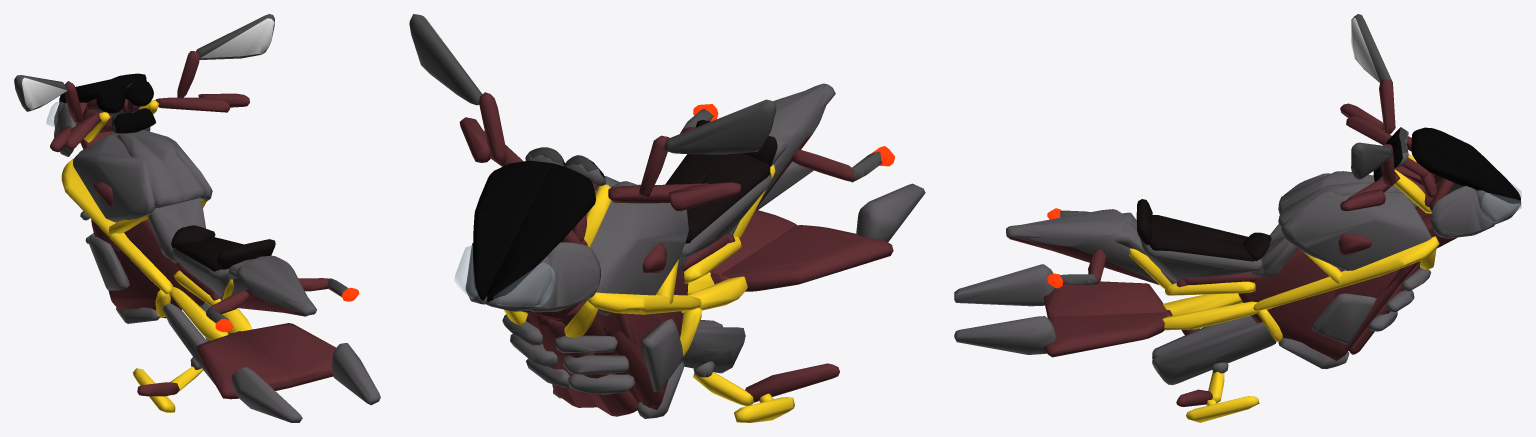
3 renders of one model, left to right at view 1: azimuth 30°, elevation 25°; view 2: azimuth 150°, elevation 25°; view 3: azimuth 270°, elevation 25°, orthographic. The views are drawn at different scales.
Visible parts, largest first — view 1: brush_ShinyHull_g0_b0_2, brush_ShinyHull_g0_b0.003_5, brush_ShinyHull_g0_b0.002_4, brush_ShinyHull_g0_b0.004_6, brush_ShinyHull_g0_b0.001_3, brush_ShinyHull_g0_b0.006_8; view 2: brush_ShinyHull_g0_b0_2, brush_ShinyHull_g0_b0.003_5, brush_ShinyHull_g0_b0.006_8, brush_ShinyHull_g0_b0.002_4, brush_ShinyHull_g0_b0.004_6, brush_ShinyHull_g0_b0.005_7, brush_ShinyHull_g0_b0.001_3; view 3: brush_ShinyHull_g0_b0_2, brush_ShinyHull_g0_b0.003_5, brush_ShinyHull_g0_b0.002_4, brush_ShinyHull_g0_b0.004_6, brush_ShinyHull_g0_b0.006_8, brush_ShinyHull_g0_b0.005_7, brush_ShinyHull_g0_b0.001_3.
Part boxes in pixels (x1,y1,x2,y2): brush_ShinyHull_g0_b0_2: [14, 14, 380, 422]; brush_ShinyHull_g0_b0.003_5: [54, 101, 212, 222]; brush_ShinyHull_g0_b0.002_4: [61, 100, 252, 412]; brush_ShinyHull_g0_b0.004_6: [171, 225, 275, 271]; brush_ShinyHull_g0_b0.001_3: [96, 79, 155, 134]; brush_ShinyHull_g0_b0.006_8: [59, 73, 146, 103]; brush_ShinyHull_g0_b0_2: [409, 14, 925, 418]; brush_ShinyHull_g0_b0.003_5: [465, 176, 688, 315]; brush_ShinyHull_g0_b0.006_8: [473, 160, 595, 304]; brush_ShinyHull_g0_b0.002_4: [503, 164, 794, 422]; brush_ShinyHull_g0_b0.004_6: [665, 119, 777, 243]; brush_ShinyHull_g0_b0.005_7: [454, 245, 555, 306]; brush_ShinyHull_g0_b0.001_3: [525, 147, 605, 194]; brush_ShinyHull_g0_b0_2: [954, 14, 1457, 406]; brush_ShinyHull_g0_b0.003_5: [1278, 171, 1520, 270]; brush_ShinyHull_g0_b0.002_4: [1129, 154, 1439, 422]; brush_ShinyHull_g0_b0.004_6: [1136, 199, 1271, 261]; brush_ShinyHull_g0_b0.006_8: [1411, 127, 1520, 203]; brush_ShinyHull_g0_b0.005_7: [1481, 182, 1521, 222]; brush_ShinyHull_g0_b0.001_3: [1373, 127, 1408, 181].
Size of the model in its own units: 0.8613 by 0.9658 by 1.56.
